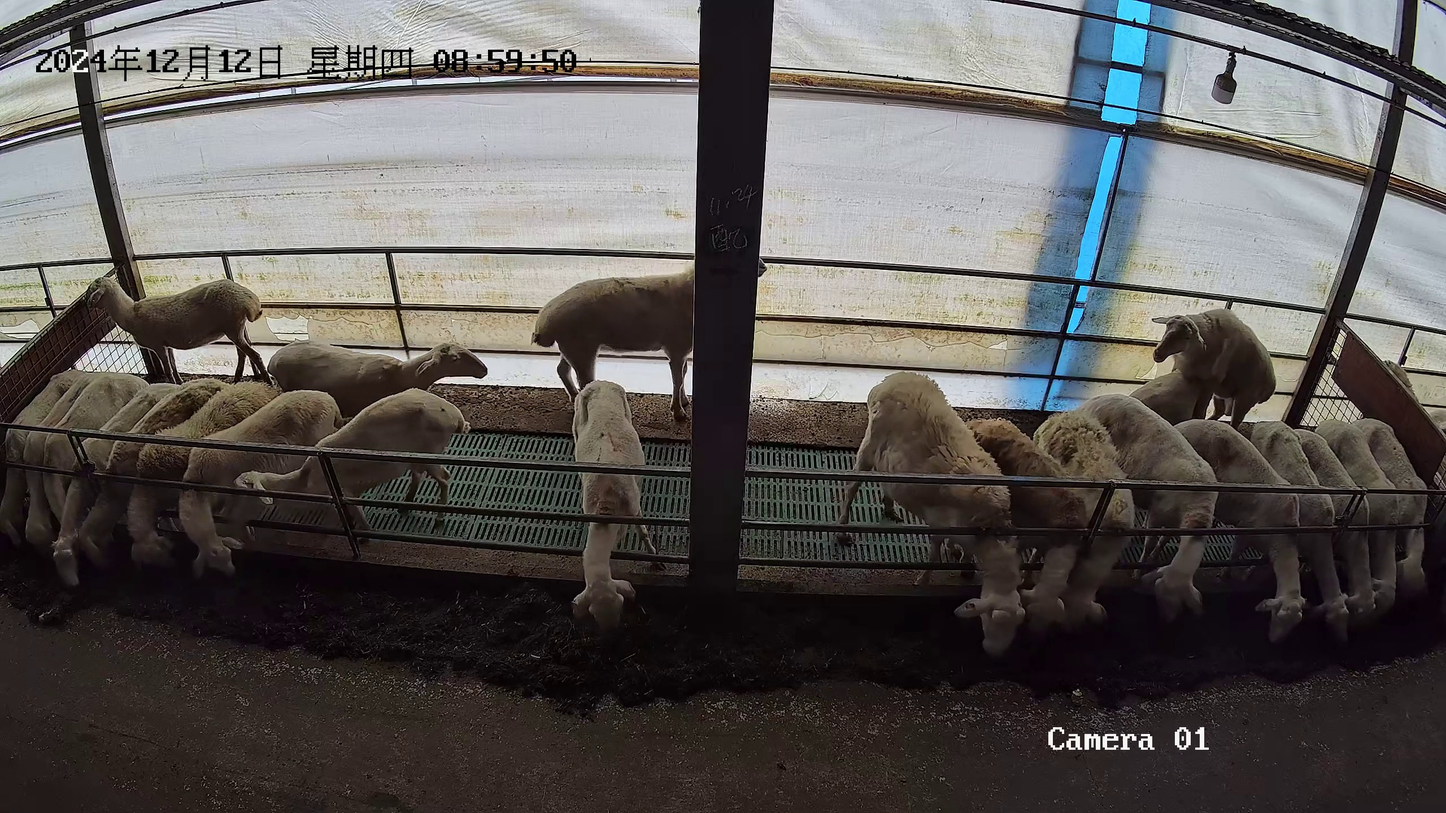Smounting: (1121, 306, 1277, 435)
mounted: (1125, 364, 1205, 427)
